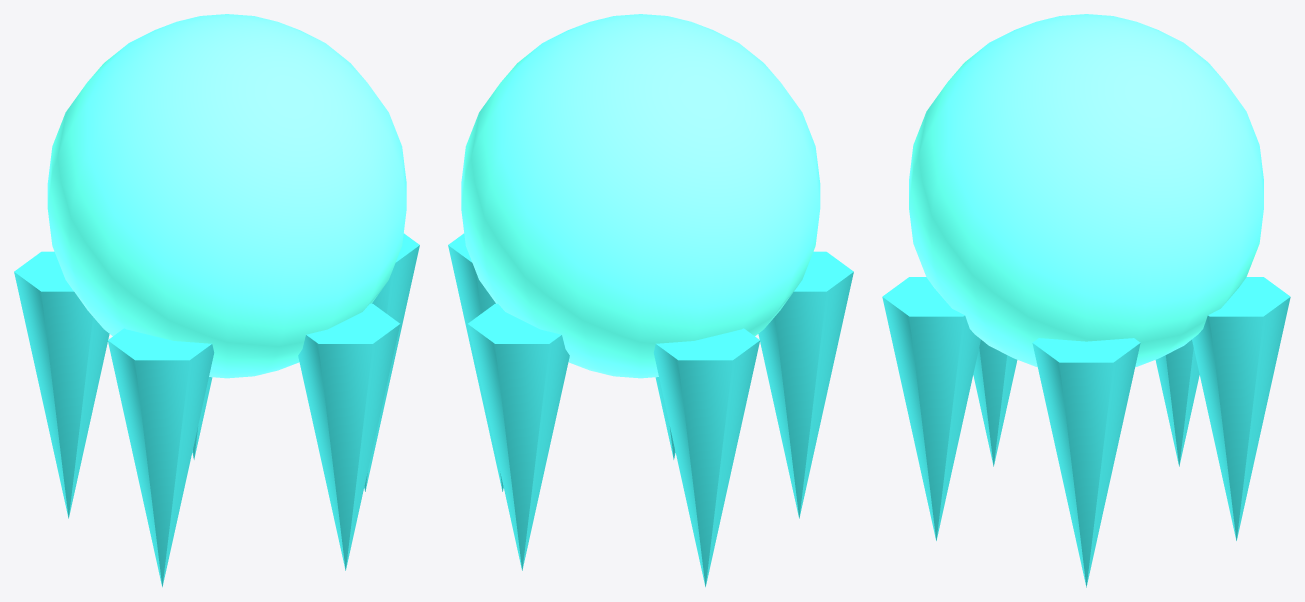
The model's file is neon_wisp.glb.
3 renders of one model, left to right at view 1: azimuth 30°, elevation 25°; view 2: azimuth 150°, elevation 25°; view 3: azimuth 270°, elevation 25°, orthographic.
Parts seen in each view (by area): view 1: core; view 2: core; view 3: core.
Part boxes in pixels (box(x1,y1,x2,y2)): core: box(14, 14, 419, 587); core: box(448, 14, 853, 587); core: box(882, 14, 1290, 587).
Size of the model in its own units: 0.8539 by 1.2 by 0.9057.
